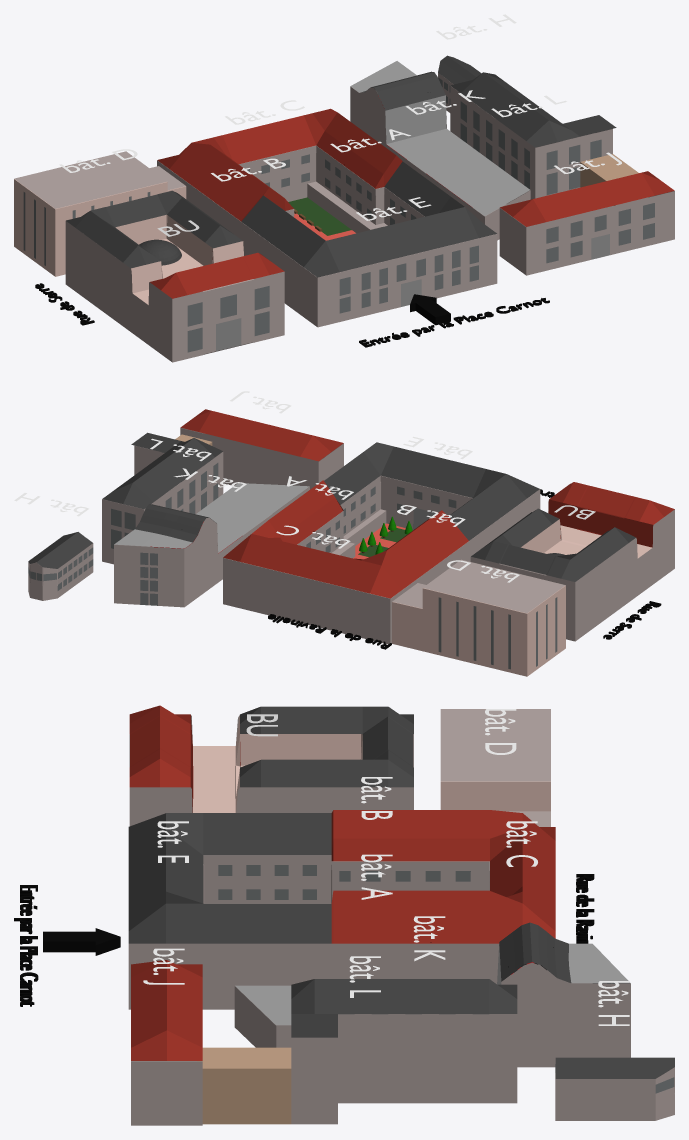
Rendered from bat8.glb.
The picture shows the model from 3 angles, top to bottom: view 1: azimuth 30°, elevation 25°; view 2: azimuth 150°, elevation 25°; view 3: azimuth 270°, elevation 25°; orthographic projection. The views are drawn at different scales.
Visible parts, largest first — view 1: toits, Bâtiment principal, Cube.001, Cube.005, Cube.006, Cube, Cube.004, sol fac, Geny.009, Cube.003; view 2: toits, Bâtiment principal, Cube, Cube.004, Cube.001, Cube.006, Cube.005, Cube.007, sol fac, Geny.011, Geny.012; view 3: toits, Cube.006, Bâtiment principal, Cube.004, Cube.001, Cube.007, Cube.005, Cube, Cube.003, Geny.009, Geny.011.
Part boxes in pixels (<box>): toits: <box>14,55,674,304</box>; Bâtiment principal: <box>157,145,497,327</box>; Cube.001: <box>65,221,284,362</box>; Cube.005: <box>499,191,674,275</box>; Cube.006: <box>450,86,647,205</box>; Cube: <box>14,179,186,276</box>; Cube.004: <box>350,86,530,240</box>; sol fac: <box>288,197,355,240</box>; Geny.009: <box>359,298,549,347</box>; Cube.003: <box>410,294,450,325</box>; toits: <box>28,409,674,613</box>; Bâtiment principal: <box>223,475,540,644</box>; Cube: <box>392,585,565,676</box>; Cube.004: <box>114,486,309,607</box>; Cube.001: <box>470,500,674,641</box>; Cube.006: <box>102,434,223,564</box>; Cube.005: <box>180,427,343,489</box>; Cube.007: <box>28,543,93,600</box>; sol fac: <box>353,516,412,559</box>; Geny.011: <box>268,614,391,649</box>; Geny.012: <box>603,601,661,639</box>; toits: <box>128,705,674,1078</box>; Cube.006: <box>197,1014,517,1124</box>; Bâtiment principal: <box>128,855,498,1009</box>; Cube.004: <box>234,962,630,1067</box>; Cube.001: <box>129,714,413,826</box>; Cube.007: <box>555,1058,674,1120</box>; Cube.005: <box>131,1061,202,1125</box>; Cube: <box>440,781,550,811</box>; Cube.003: <box>43,928,120,955</box>; Geny.009: <box>14,885,38,1006</box>; Geny.011: <box>576,874,594,943</box>.
Size of the model in its own units: 18.88 by 2.69 by 14.54.
